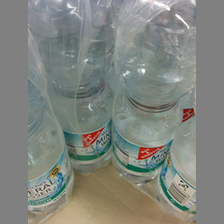water: (28, 1, 115, 173), (111, 2, 194, 181), (28, 31, 76, 216)
